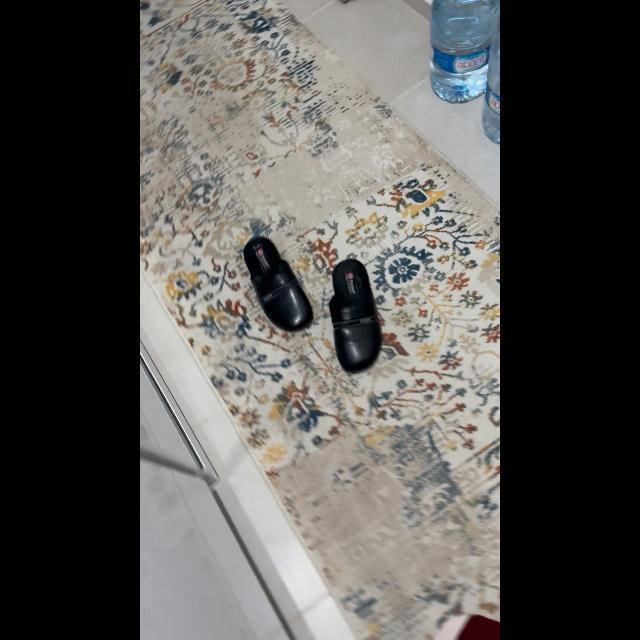slipper: (240, 230, 318, 336), (326, 256, 390, 376)
